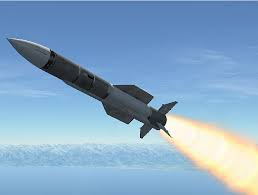ten_lua: (5, 34, 175, 140)
